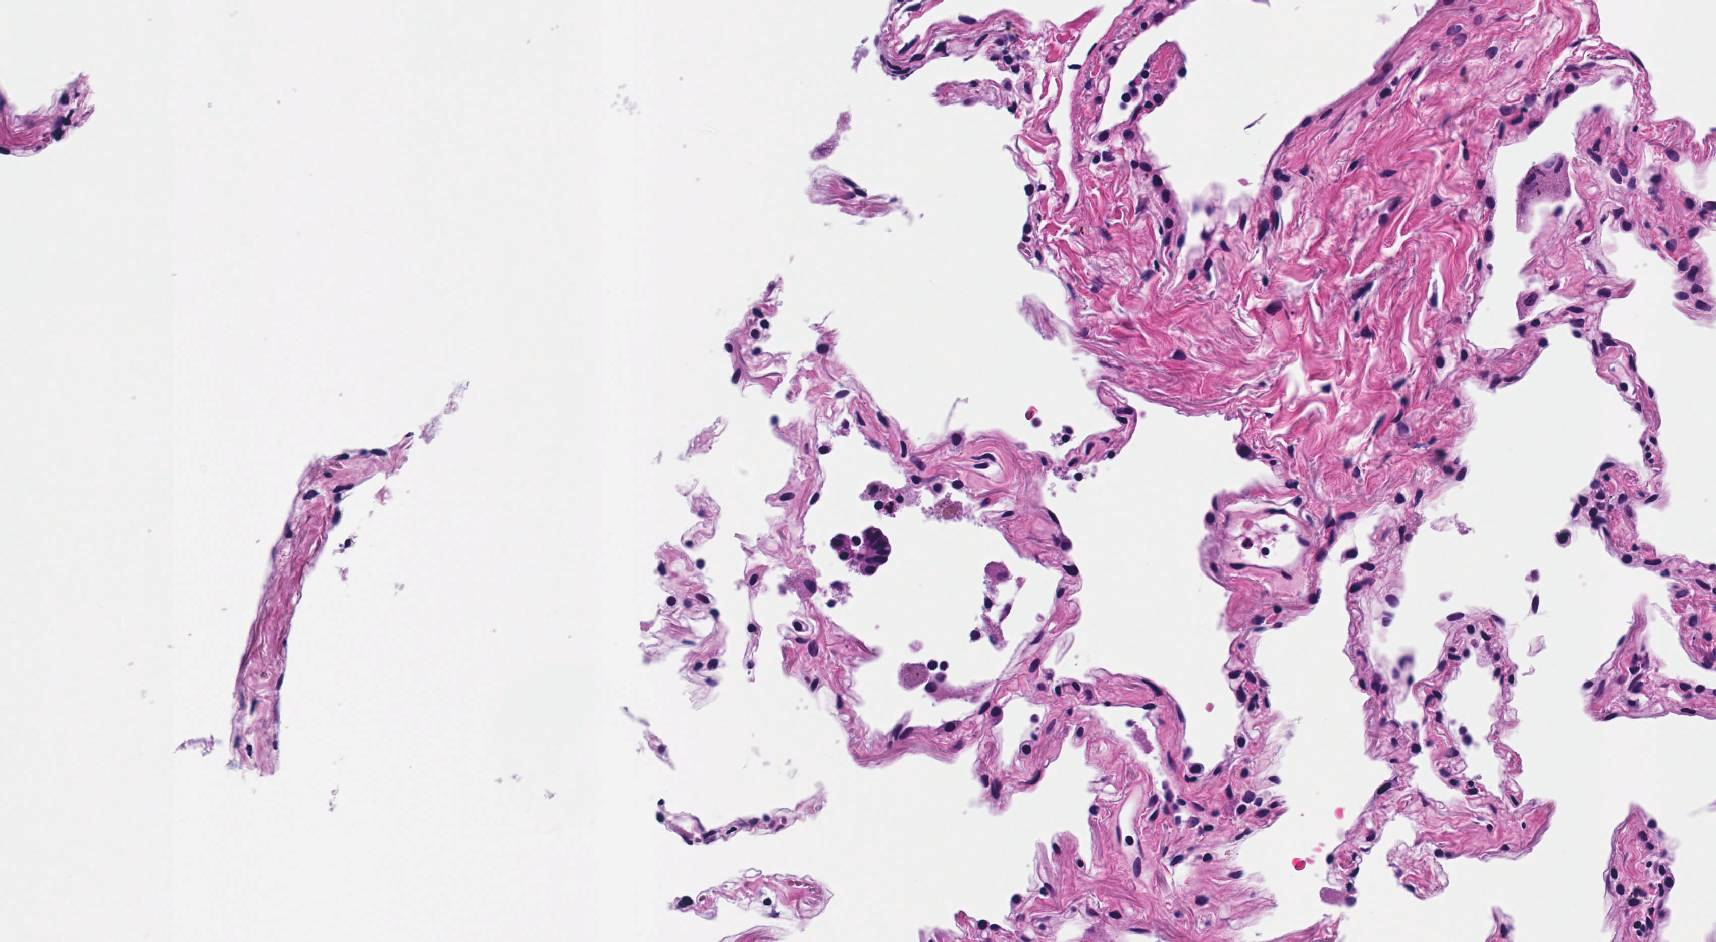stas: (830, 525, 893, 576)
